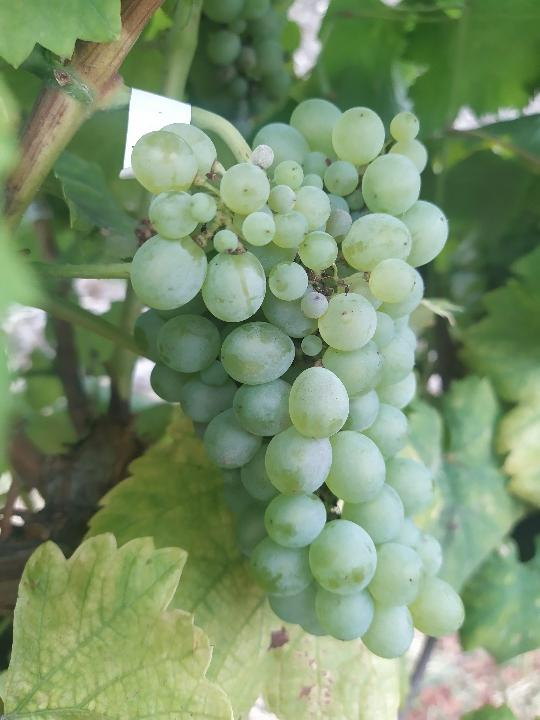grape: (127, 96, 467, 660)
